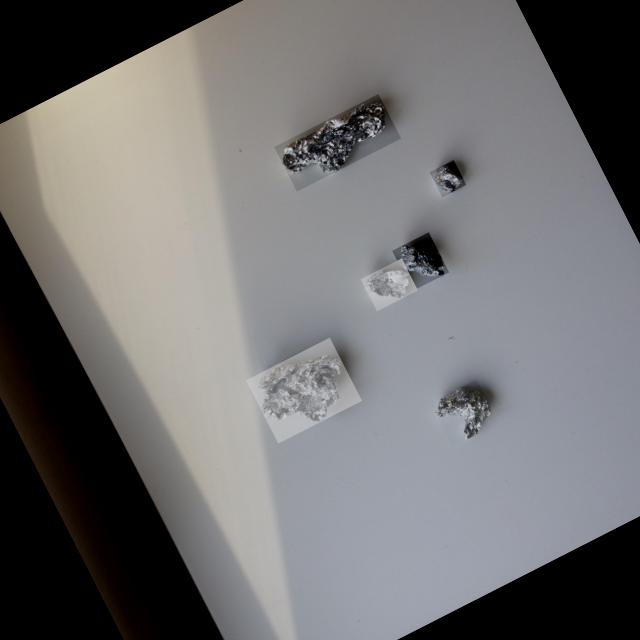Aluminium foil: (282, 102, 385, 175), (259, 354, 341, 422), (436, 389, 491, 439), (399, 246, 444, 277), (365, 270, 409, 298), (434, 165, 462, 194)
